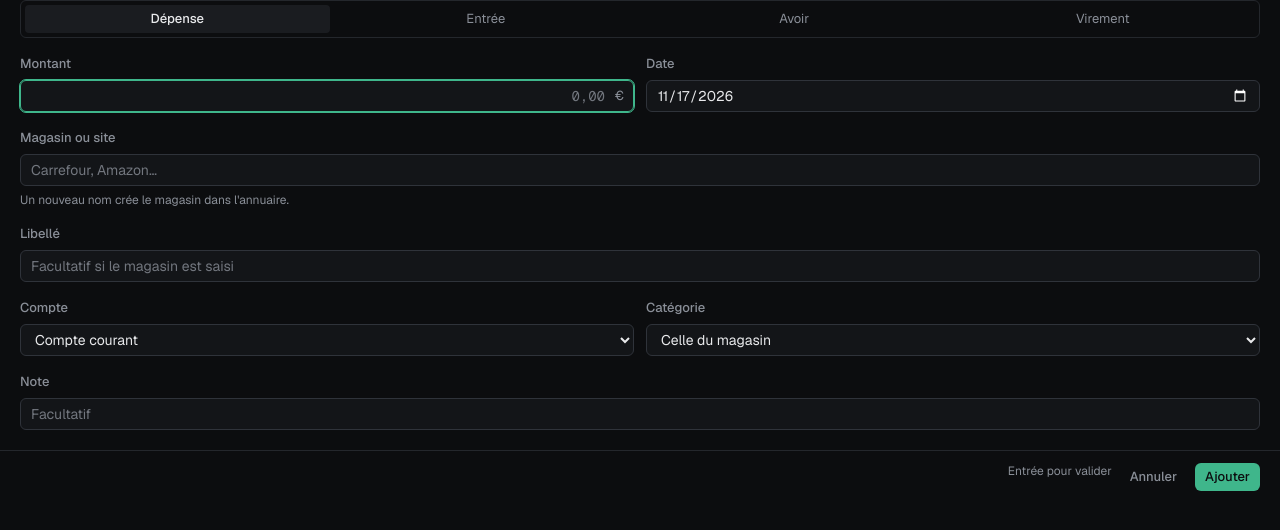
TransactionForm › shows French validation errors without calling the server
Click the button "Ajouter": (1228, 477) [1195, 463, 1260, 491]
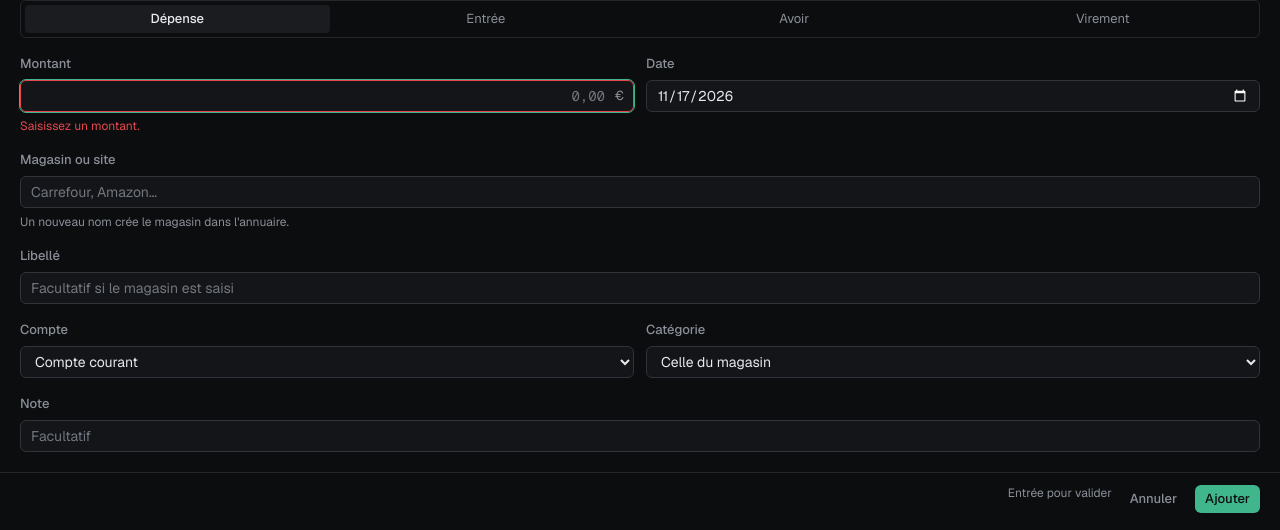
expect the text "Saisissez un montant." is shown: met, box [20, 118, 140, 134]
